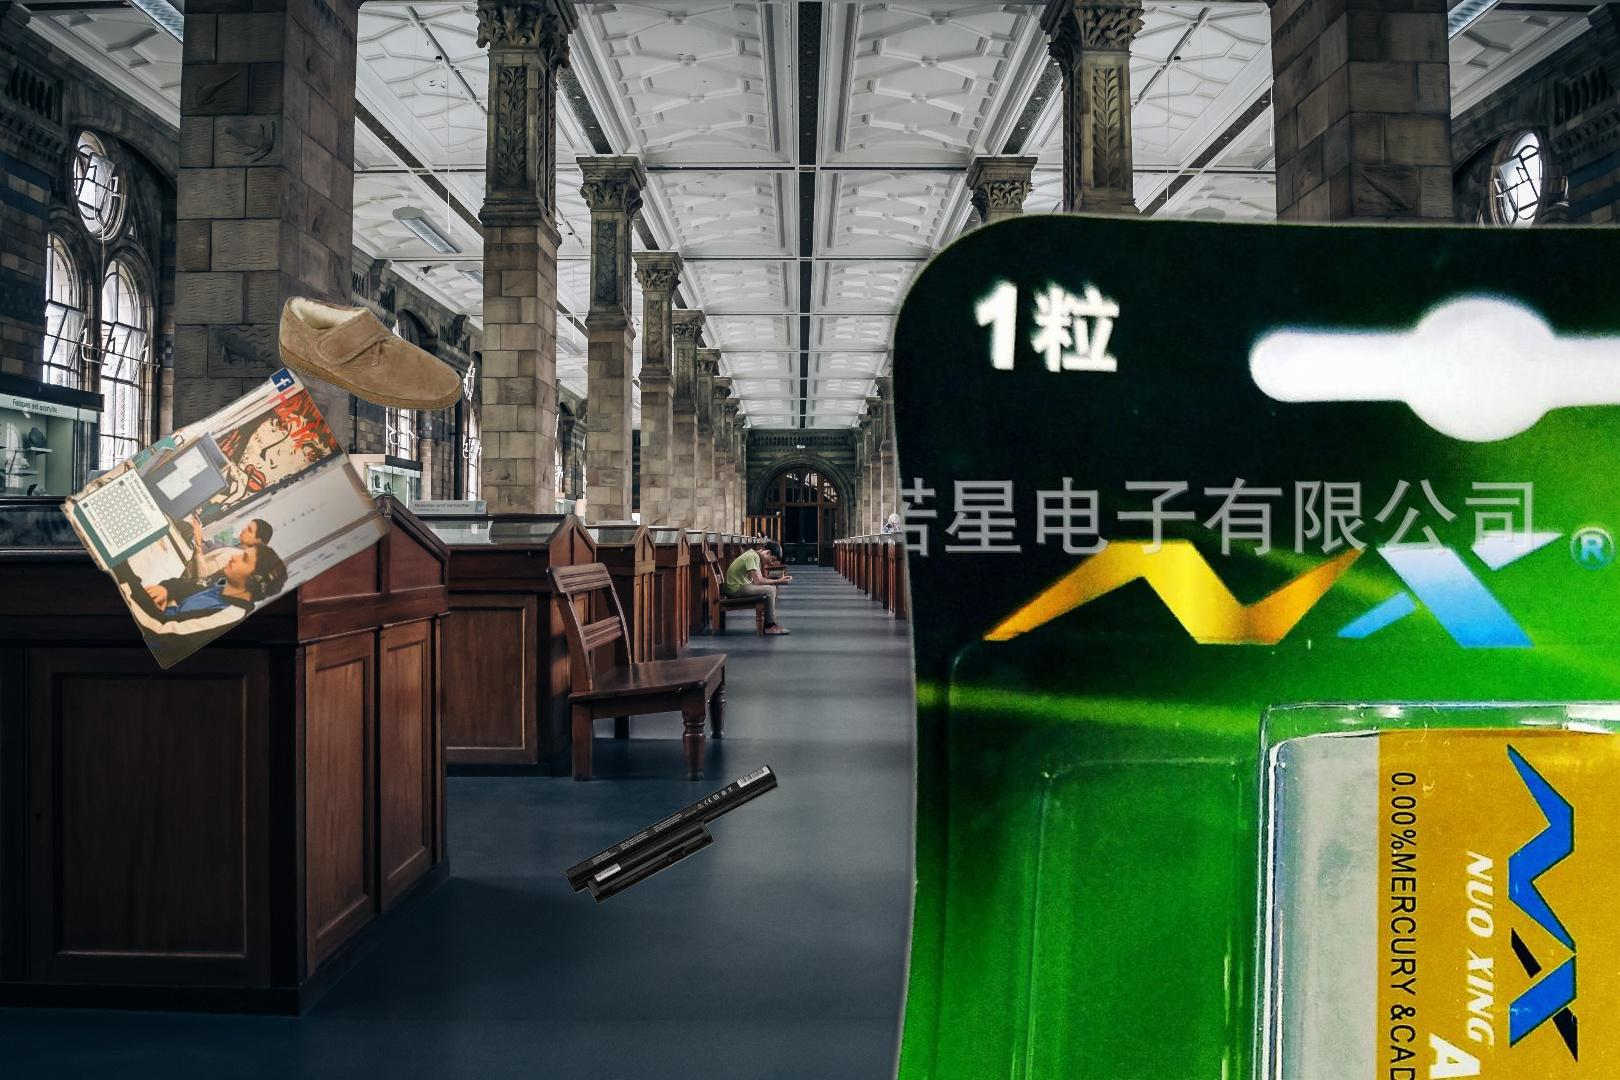battery: (777, 192, 1620, 1080), (563, 762, 781, 906)
paper: (55, 357, 397, 671)
penholder: (670, 1069, 1208, 1080)
plastic-bottles: (975, 898, 1273, 1080)
shoes: (276, 293, 465, 413)
trash: (1383, 569, 1574, 671)
